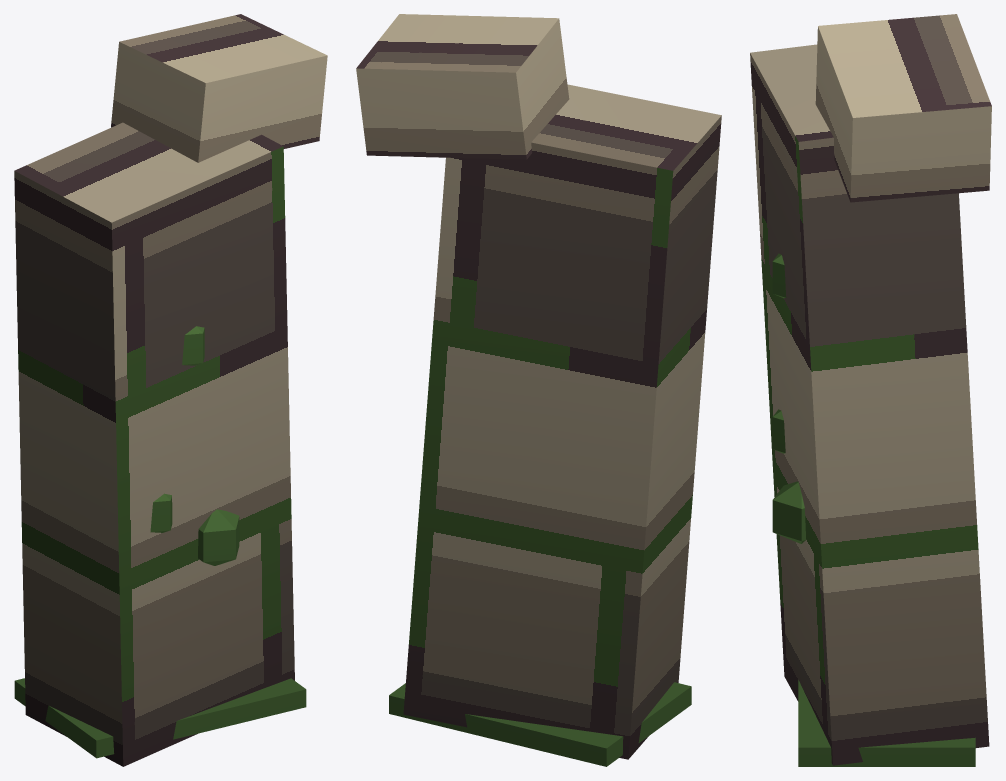
Rendered from standing_stone.glb.
The picture shows the model from 3 angles, left to right: view 1: azimuth 30°, elevation 25°; view 2: azimuth 150°, elevation 25°; view 3: azimuth 270°, elevation 25°; orthographic projection. The views are drawn at different scales.
Parts seen in each view (by area): view 1: standing_stone; view 2: standing_stone; view 3: standing_stone.
Boxes of the visible parts, <box> form: standing_stone: <box>14,14,327,766</box>; standing_stone: <box>356,14,721,766</box>; standing_stone: <box>750,14,991,766</box>.
Size of the model in its own units: 1.02 by 2.18 by 0.6821.
2 materials, 1 textured.
